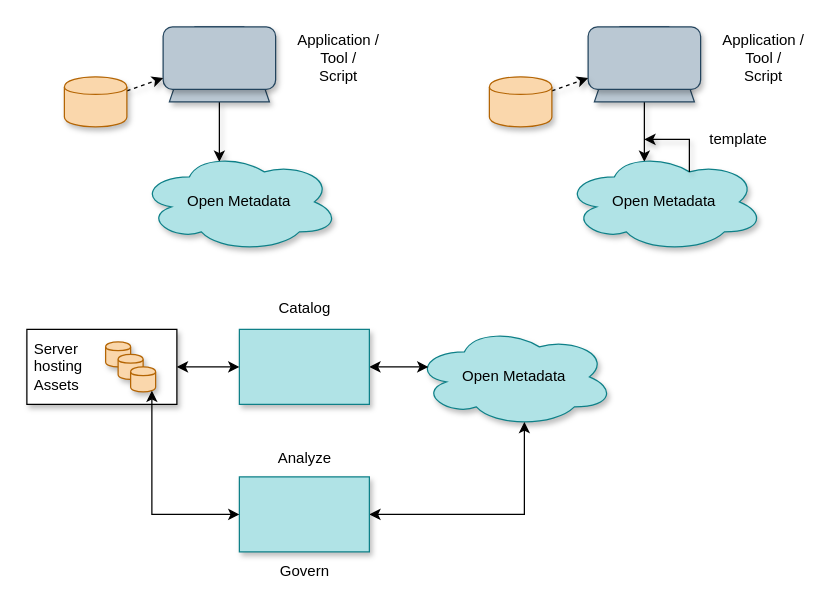
Image size: 835x606. Some labels were removed from this diagram. The shapes that lost their labels are listed below. From the top down, each one's centre as x and y in pixels, then its label:
[305,368]: Integration Daemon
[305,516]: Engine Host
